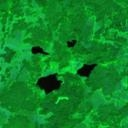alloviz: (35, 72, 64, 95), (75, 62, 98, 78), (29, 44, 50, 56), (65, 38, 77, 48)
